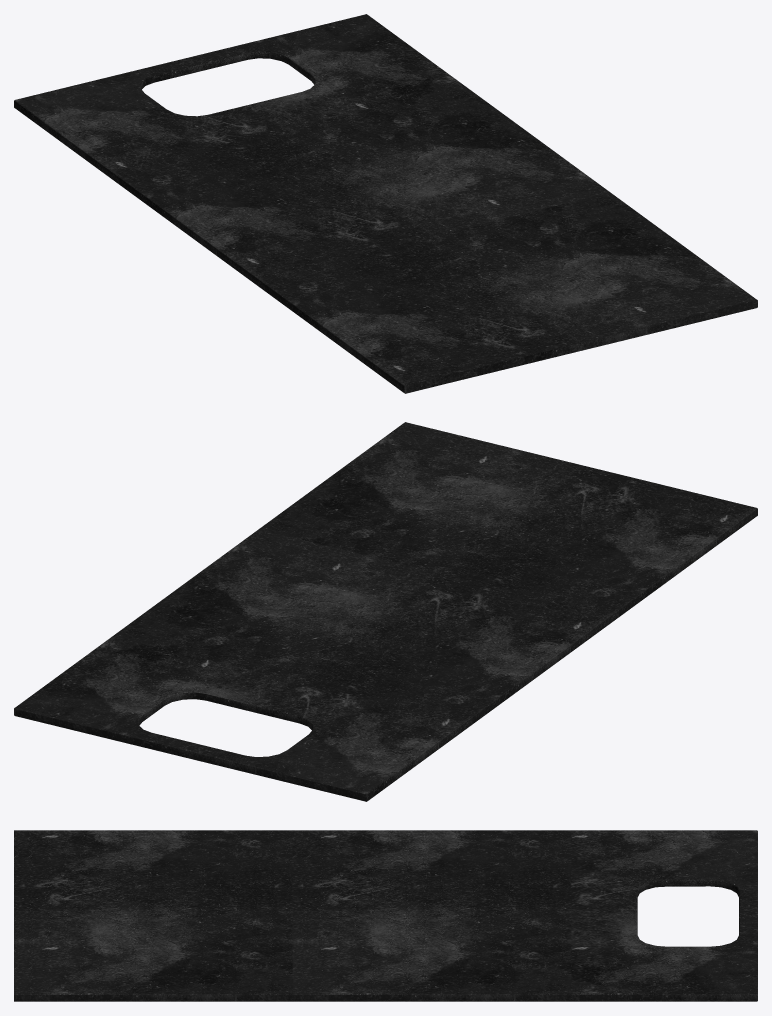
The model's file is SM_Middle_Table_Sink_Board.fbx.
3 views of the same model, one above another, from view 1: azimuth 30°, elevation 25°; view 2: azimuth 150°, elevation 25°; view 3: azimuth 270°, elevation 25° (orthographic). The views are drawn at different scales.
Visible parts, largest first — view 1: SM_Middle_Table_Sink_Board_LOD0; view 2: SM_Middle_Table_Sink_Board_LOD0; view 3: SM_Middle_Table_Sink_Board_LOD0.
Part boxes in pixels (x1,y1,x2,y2): SM_Middle_Table_Sink_Board_LOD0: [14, 14, 757, 393]; SM_Middle_Table_Sink_Board_LOD0: [14, 422, 757, 801]; SM_Middle_Table_Sink_Board_LOD0: [14, 830, 757, 1001].
Size of the model in its own units: 159 by 305 by 3.52.
1 material, 1 textured.
